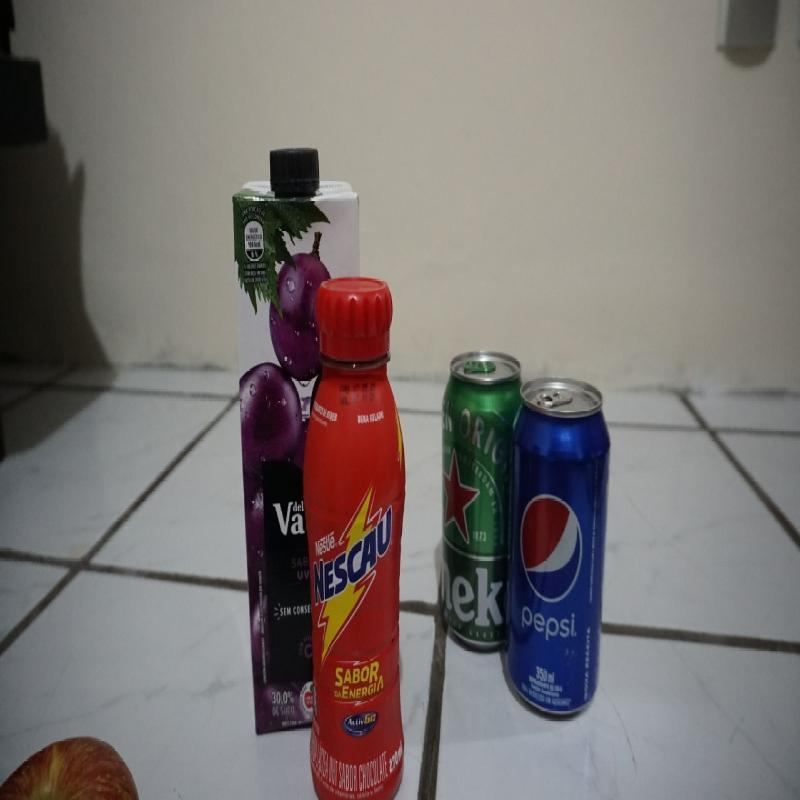Apple: (9, 731, 134, 796)
Beer can: (434, 350, 510, 651)
Chocolate Milk: (312, 273, 408, 798)
Soda can: (511, 381, 614, 712)
